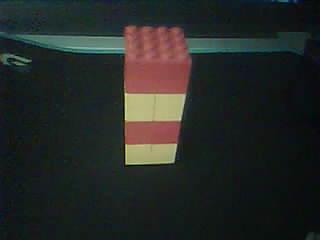lego: (123, 25, 192, 166)
